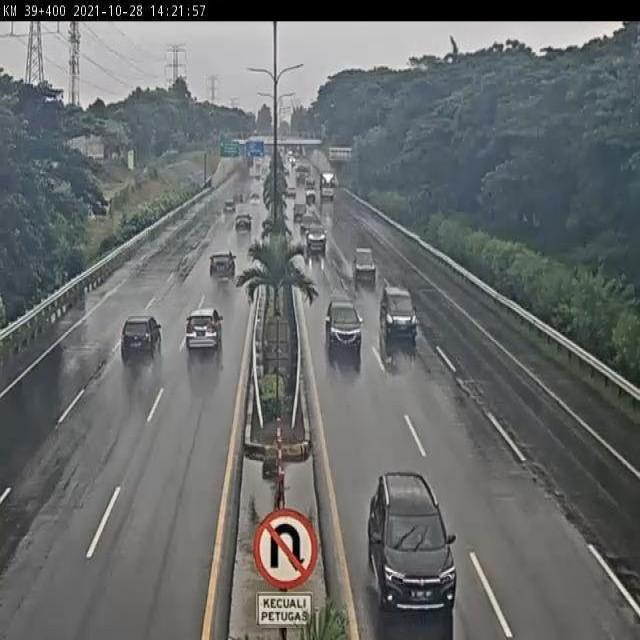car: (367, 471, 458, 612), (380, 283, 419, 341), (121, 314, 163, 366), (326, 306, 363, 358), (187, 305, 224, 352), (208, 248, 238, 285), (352, 247, 379, 281), (304, 221, 328, 252), (235, 212, 255, 236), (291, 201, 309, 224), (220, 200, 237, 220)
